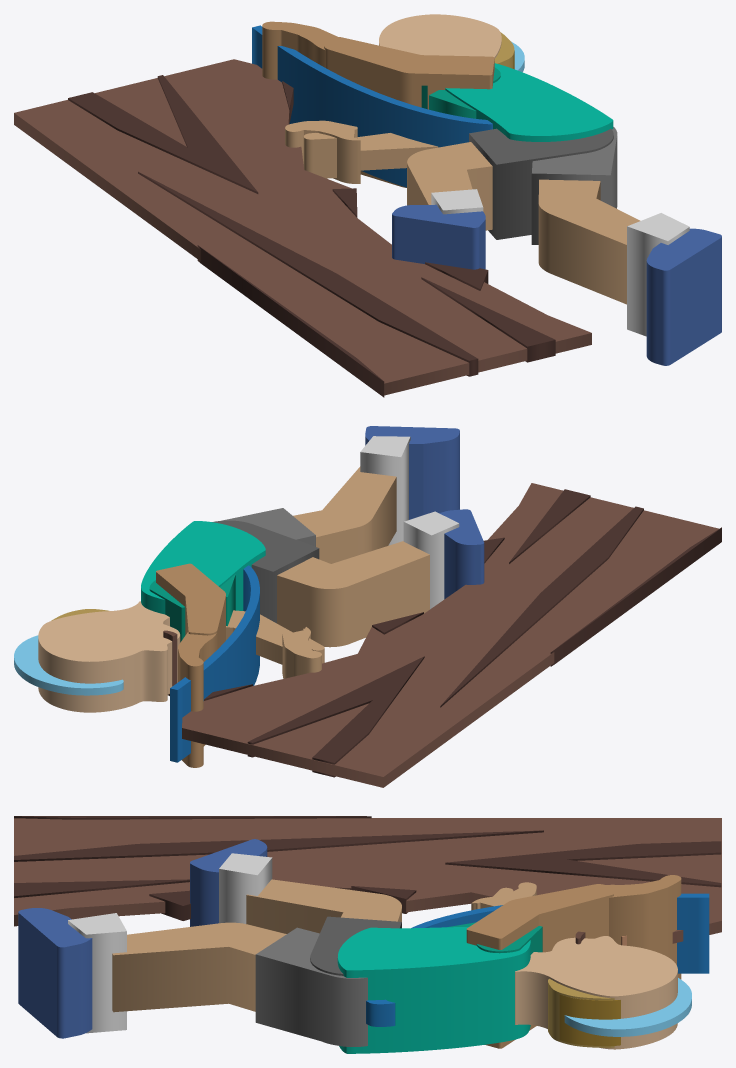
File: emoji_u1f9d7_1f3fc_200d_2642.glb
3 renders of one model, top to bottom at view 1: azimuth 30°, elevation 25°; view 2: azimuth 150°, elevation 25°; view 3: azimuth 270°, elevation 25°, orthographic. The views are drawn at different scales.
Parts seen in each view (by area): view 1: emoji_u1f9d7_1f3fc_200d_2642; view 2: emoji_u1f9d7_1f3fc_200d_2642; view 3: emoji_u1f9d7_1f3fc_200d_2642.
Part boxes in pixels (box(x1,y1,x2,y2)): emoji_u1f9d7_1f3fc_200d_2642: box(14, 14, 721, 397); emoji_u1f9d7_1f3fc_200d_2642: box(14, 426, 721, 787); emoji_u1f9d7_1f3fc_200d_2642: box(14, 816, 721, 1053).
Bounding box in the file's own units: 0.0237 × 0.0058 × 0.0338.
